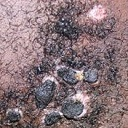Keloids: (33, 68, 100, 114), (89, 6, 113, 29)
